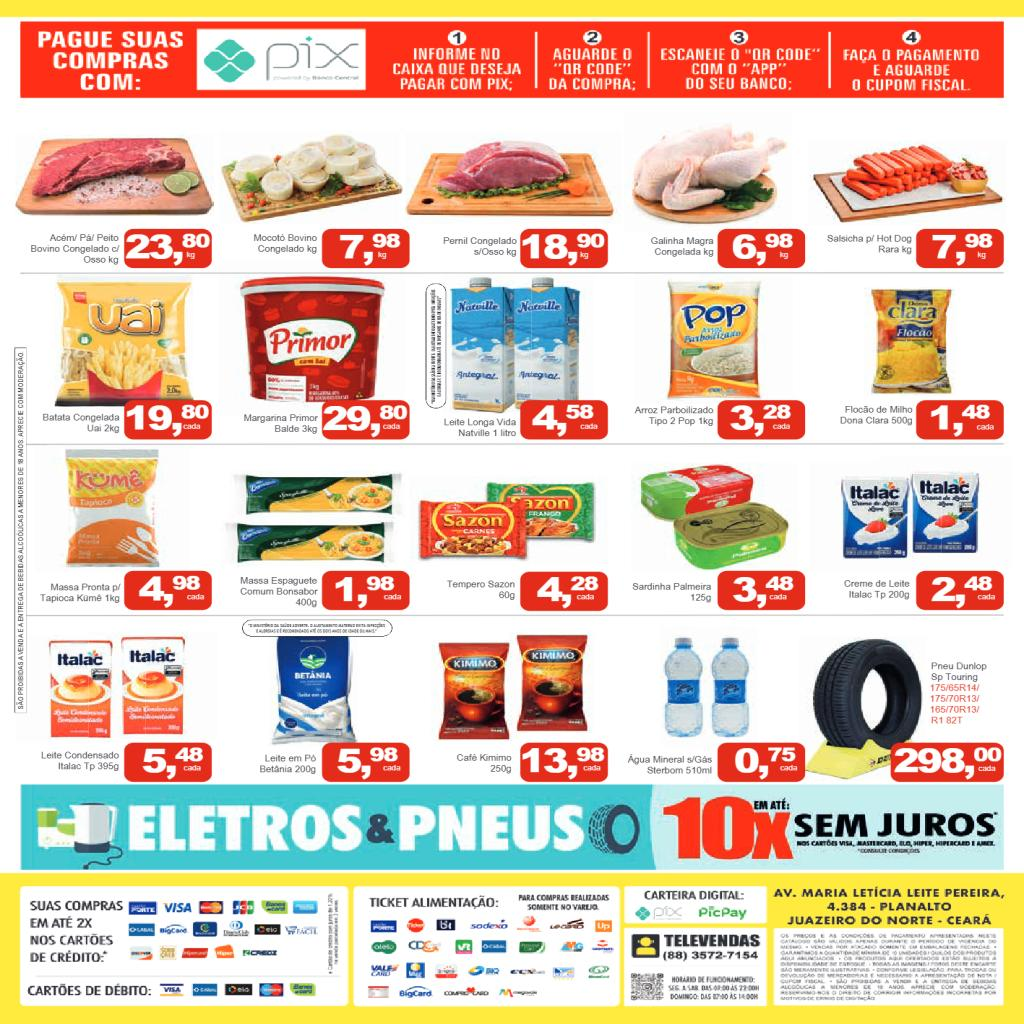price: (893, 745, 1002, 781), (522, 745, 607, 780), (522, 232, 604, 267), (126, 404, 210, 438), (324, 404, 408, 438), (126, 233, 210, 266), (330, 574, 405, 608), (534, 574, 604, 610), (333, 745, 403, 780), (137, 574, 207, 609), (929, 573, 997, 609), (728, 402, 794, 439), (530, 404, 600, 438), (929, 403, 996, 438), (929, 230, 994, 266), (731, 231, 797, 266), (732, 573, 798, 608), (140, 745, 204, 781), (336, 232, 402, 266), (732, 746, 798, 780)
product_text: (927, 658, 989, 728), (28, 231, 122, 268), (236, 572, 320, 610), (627, 751, 714, 776), (632, 402, 715, 428), (825, 232, 914, 256), (631, 580, 713, 606), (37, 748, 121, 773), (835, 402, 914, 428), (440, 414, 519, 440), (242, 410, 320, 436), (38, 580, 122, 604), (442, 576, 516, 603), (39, 411, 121, 434), (440, 234, 518, 258), (250, 230, 319, 256), (648, 234, 716, 260), (842, 577, 912, 602), (255, 750, 317, 778), (452, 750, 514, 778)
